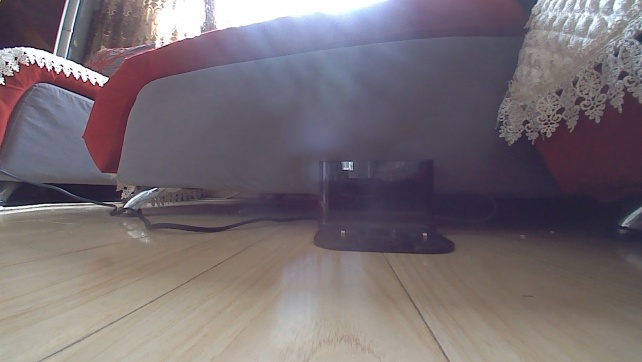charger: (311, 156, 456, 259)
sofa1: (80, 1, 569, 219), (0, 34, 163, 207)
wire: (0, 167, 317, 234), (433, 192, 500, 227)
